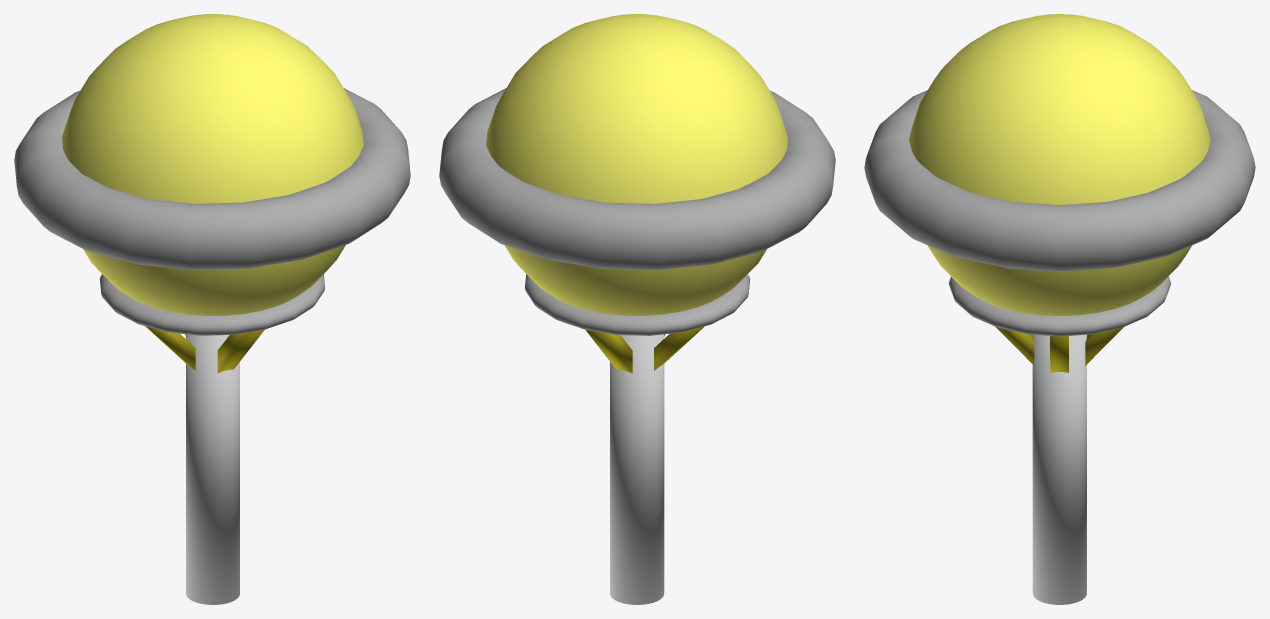
Rendered from wipeoutYellow.fbx.
3 views of the same model, side by side, from view 1: azimuth 30°, elevation 25°; view 2: azimuth 150°, elevation 25°; view 3: azimuth 270°, elevation 25° (orthographic).
Parts seen in each view (by area): view 1: slide1:wipeoutball:Cube.022; view 2: slide1:wipeoutball:Cube.022; view 3: slide1:wipeoutball:Cube.022.
Part boxes in pixels (bbox=[...]): slide1:wipeoutball:Cube.022: bbox=[14, 14, 410, 604]; slide1:wipeoutball:Cube.022: bbox=[439, 14, 835, 604]; slide1:wipeoutball:Cube.022: bbox=[864, 14, 1255, 604].
Size of the model in its own units: 12.87 by 19.98 by 12.53.
